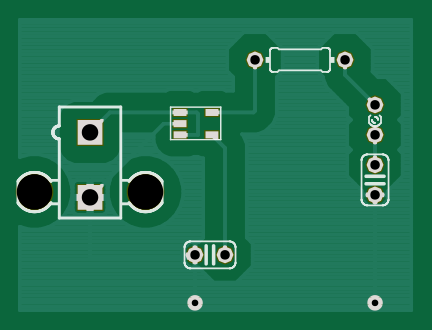LED: (365, 96, 385, 144)
capacitance: (183, 240, 238, 271), (359, 153, 390, 206)
power_supply: (16, 104, 165, 219)
regulation: (169, 106, 222, 141)
resistance: (247, 46, 354, 73)
